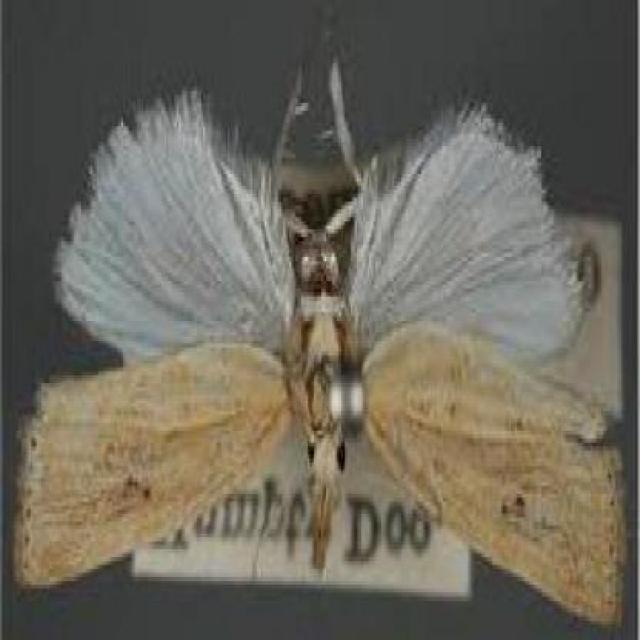stem-borer: (8, 50, 631, 634)
